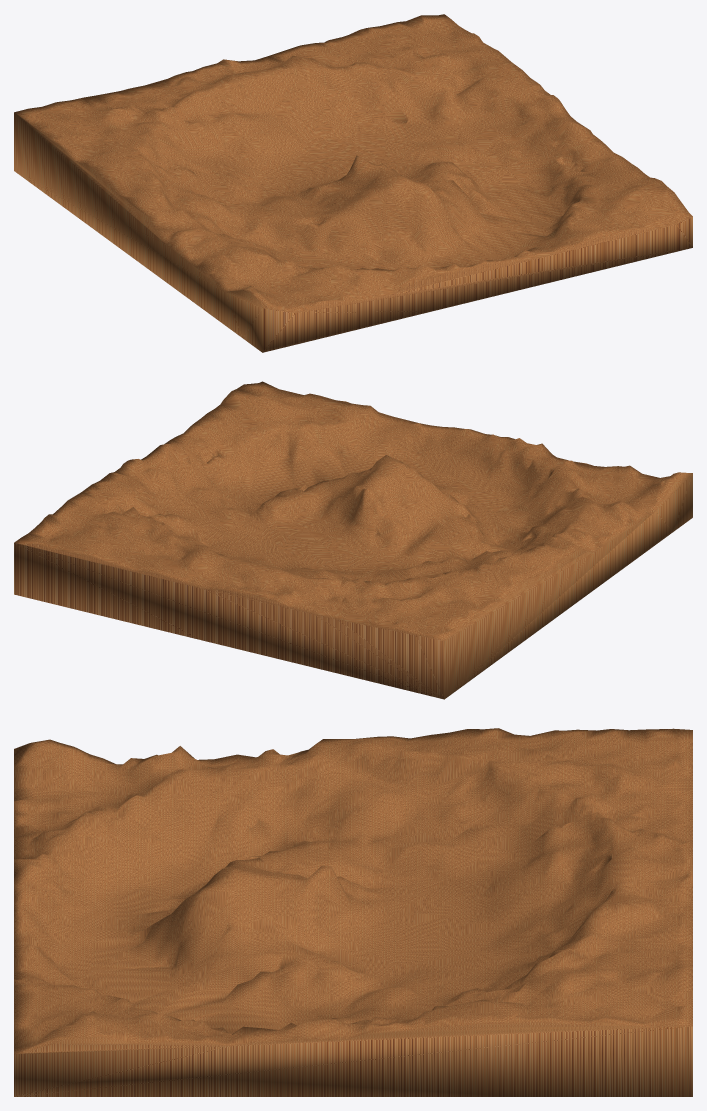
Rendered from Site1.glb.
The picture shows the model from 3 angles, top to bottom: view 1: azimuth 30°, elevation 25°; view 2: azimuth 150°, elevation 25°; view 3: azimuth 270°, elevation 25°; orthographic projection. The views are drawn at different scales.
Parts seen in each view (by area): view 1: Gale Crater; view 2: Gale Crater; view 3: Gale Crater.
Part boxes in pixels (x1,y1,x2,y2): Gale Crater: (14,14,692,352); Gale Crater: (14,381,692,699); Gale Crater: (14,728,692,1096).
Size of the model in its own units: 372 by 51.4 by 372.
1 material, 1 textured.
